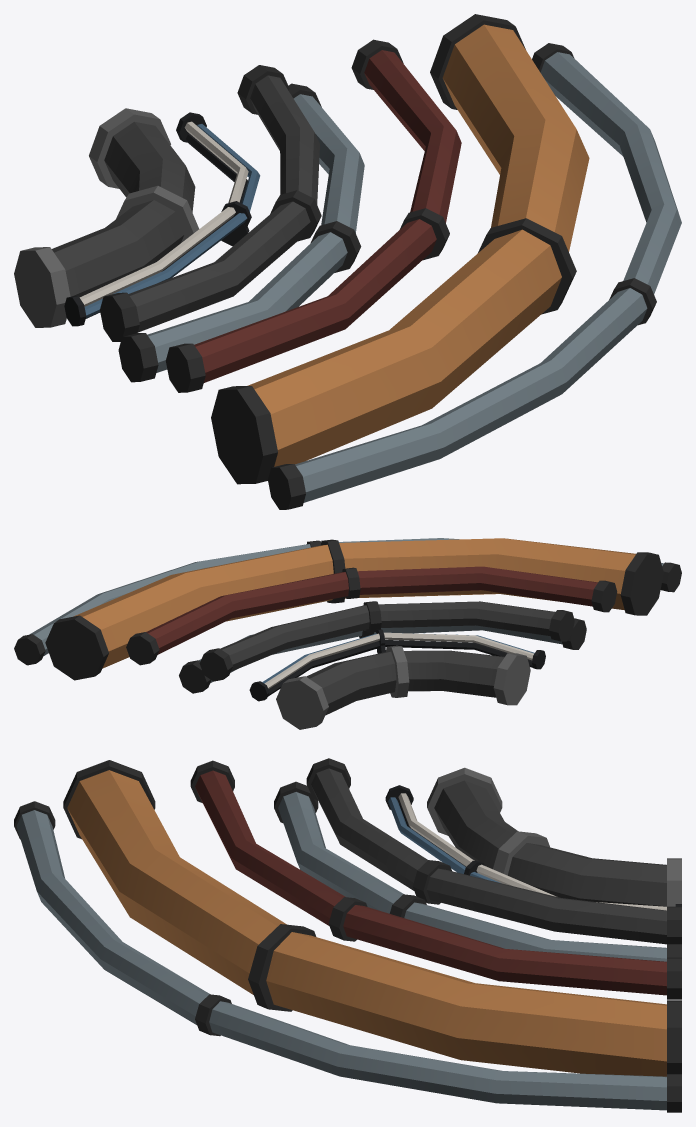
File: SM_Bld_Ceiling_Pipes_Turn_R_01.fbx
3 views of the same model, one above another, from view 1: azimuth 30°, elevation 25°; view 2: azimuth 150°, elevation 25°; view 3: azimuth 270°, elevation 25° (orthographic). The views are drawn at different scales.
Parts seen in each view (by area): view 1: SM_Bld_Ceiling_Pipes_Turn_R_01; view 2: SM_Bld_Ceiling_Pipes_Turn_R_01; view 3: SM_Bld_Ceiling_Pipes_Turn_R_01.
Boxes of the visible parts, bbox=[...] form: SM_Bld_Ceiling_Pipes_Turn_R_01: bbox=[14, 14, 681, 509]; SM_Bld_Ceiling_Pipes_Turn_R_01: bbox=[14, 538, 681, 729]; SM_Bld_Ceiling_Pipes_Turn_R_01: bbox=[14, 758, 681, 1112].
Bounding box in the file's own units: 394 × 55.36 × 394.
1 material, 1 textured.
